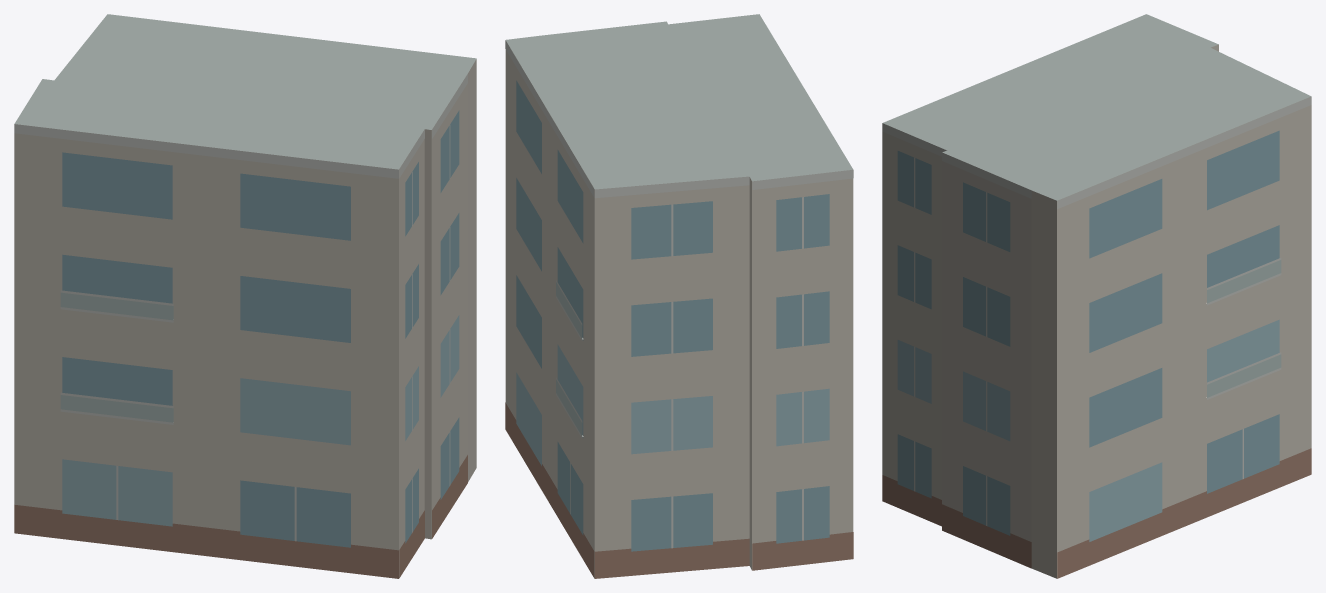
Rendered from survey-upis-32885075.glb.
3 renders of one model, left to right at view 1: azimuth 30°, elevation 25°; view 2: azimuth 150°, elevation 25°; view 3: azimuth 270°, elevation 25°, orthographic. The views are drawn at different scales.
Visible parts, largest first — view 1: survey-upis-32885075.tmp; view 2: survey-upis-32885075.tmp; view 3: survey-upis-32885075.tmp.
Part boxes in pixels (bbox=[...]): survey-upis-32885075.tmp: bbox=[14, 14, 476, 578]; survey-upis-32885075.tmp: bbox=[505, 14, 853, 578]; survey-upis-32885075.tmp: bbox=[882, 14, 1311, 578].
Size of the model in its own units: 11.45 by 10.8 by 11.12.
